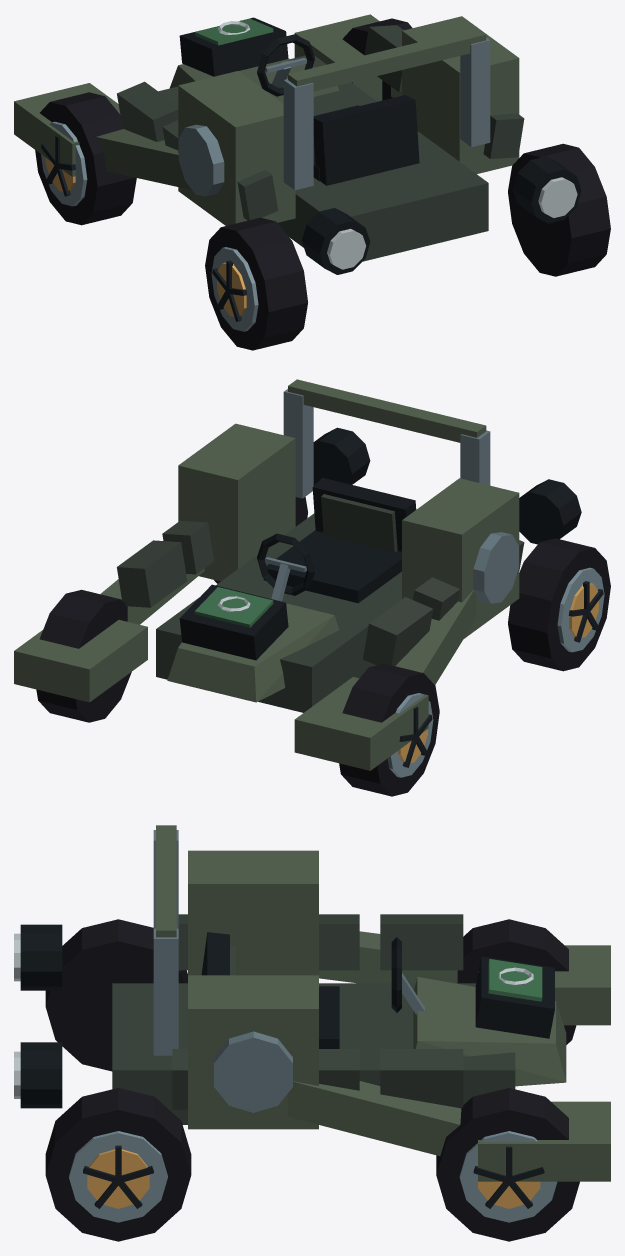
Rendered from kart.glb.
The picture shows the model from 3 angles, top to bottom: view 1: azimuth 30°, elevation 25°; view 2: azimuth 150°, elevation 25°; view 3: azimuth 270°, elevation 25°; orthographic projection. The views are drawn at different scales.
Parts seen in each view (by area): view 1: identity-mech-mech-articulated-limbs-and-open-harness, wheel-rear-left, identity-mech-driver-cockpit, wheel-front-left, wheel-rear-right, identity-mech-motif-armor, identity-mech-motif-thrusters, identity-mech-motif-scanner, wheel-front-right; view 2: identity-mech-mech-articulated-limbs-and-open-harness, identity-mech-driver-cockpit, wheel-rear-left, identity-mech-motif-armor, wheel-front-left, identity-mech-motif-scanner, identity-mech-motif-thrusters, wheel-front-right; view 3: identity-mech-mech-articulated-limbs-and-open-harness, wheel-rear-right, identity-mech-motif-armor, wheel-front-right, wheel-rear-left, identity-mech-motif-thrusters, identity-mech-motif-scanner, wheel-front-left, identity-mech-driver-cockpit.
Part boxes in pixels (bbox=[...]): identity-mech-mech-articulated-limbs-and-open-harness: bbox=[14, 14, 519, 261]; wheel-rear-left: bbox=[205, 217, 307, 350]; identity-mech-driver-cockpit: bbox=[257, 34, 419, 185]; wheel-front-left: bbox=[35, 92, 136, 225]; wheel-rear-right: bbox=[508, 143, 610, 276]; identity-mech-motif-armor: bbox=[117, 25, 524, 220]; identity-mech-motif-thrusters: bbox=[302, 156, 581, 274]; identity-mech-motif-scanner: bbox=[179, 17, 288, 76]; wheel-front-right: bbox=[342, 18, 412, 100]; identity-mech-mech-articulated-limbs-and-open-harness: bbox=[14, 379, 519, 770]; identity-mech-driver-cockpit: bbox=[257, 477, 416, 603]; wheel-rear-left: bbox=[508, 538, 610, 671]; identity-mech-motif-armor: bbox=[117, 520, 524, 665]; wheel-front-left: bbox=[339, 663, 439, 796]; identity-mech-motif-scanner: bbox=[179, 584, 288, 660]; identity-mech-motif-thrusters: bbox=[313, 427, 581, 544]; wheel-front-right: bbox=[36, 589, 131, 722]; identity-mech-mech-articulated-limbs-and-open-harness: bbox=[112, 825, 610, 1181]; wheel-rear-right: bbox=[45, 1088, 191, 1241]; identity-mech-motif-armor: bbox=[172, 914, 463, 1109]; wheel-front-right: bbox=[436, 1088, 579, 1241]; wheel-rear-left: bbox=[45, 919, 187, 1071]; identity-mech-motif-thrusters: bbox=[14, 924, 62, 1108]; identity-mech-motif-scanner: bbox=[475, 956, 554, 1038]; wheel-front-left: bbox=[457, 919, 576, 1044]; identity-mech-driver-cockpit: bbox=[201, 932, 424, 1048].
Bounding box in the file's own units: 2.29 × 1.42 × 2.87.
